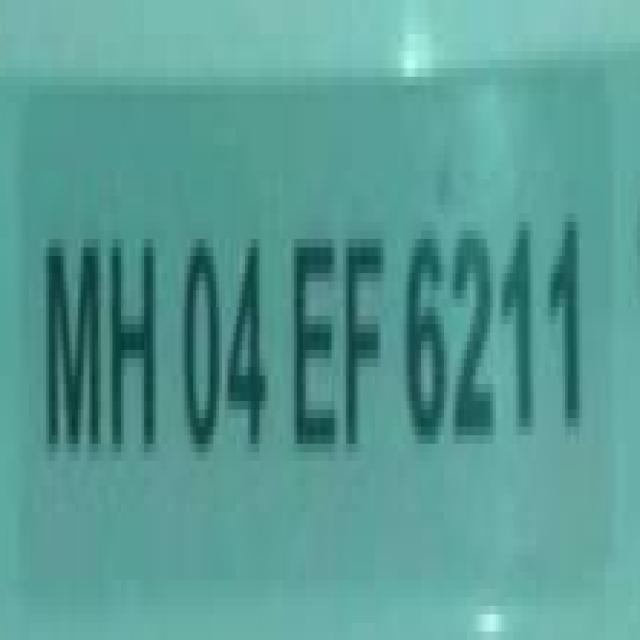license_plate: (5, 43, 602, 597)
